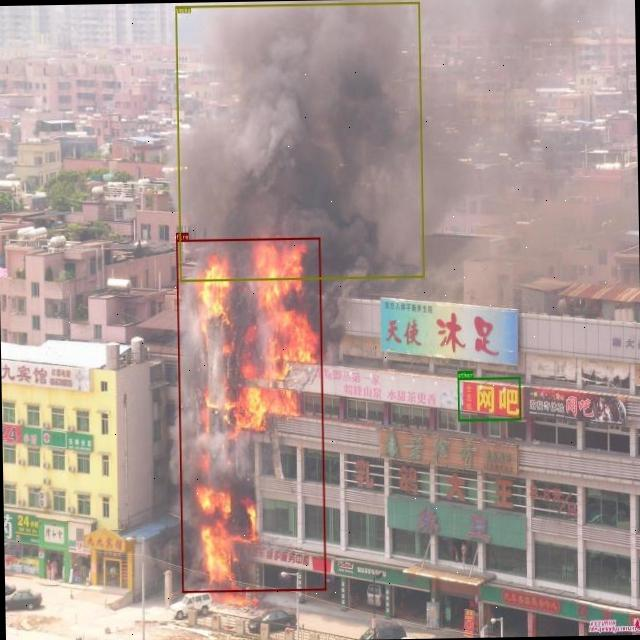fire: (176, 237, 326, 592)
smoke: (174, 2, 424, 282)
